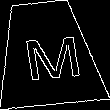M_N: (14, 26, 80, 81)
